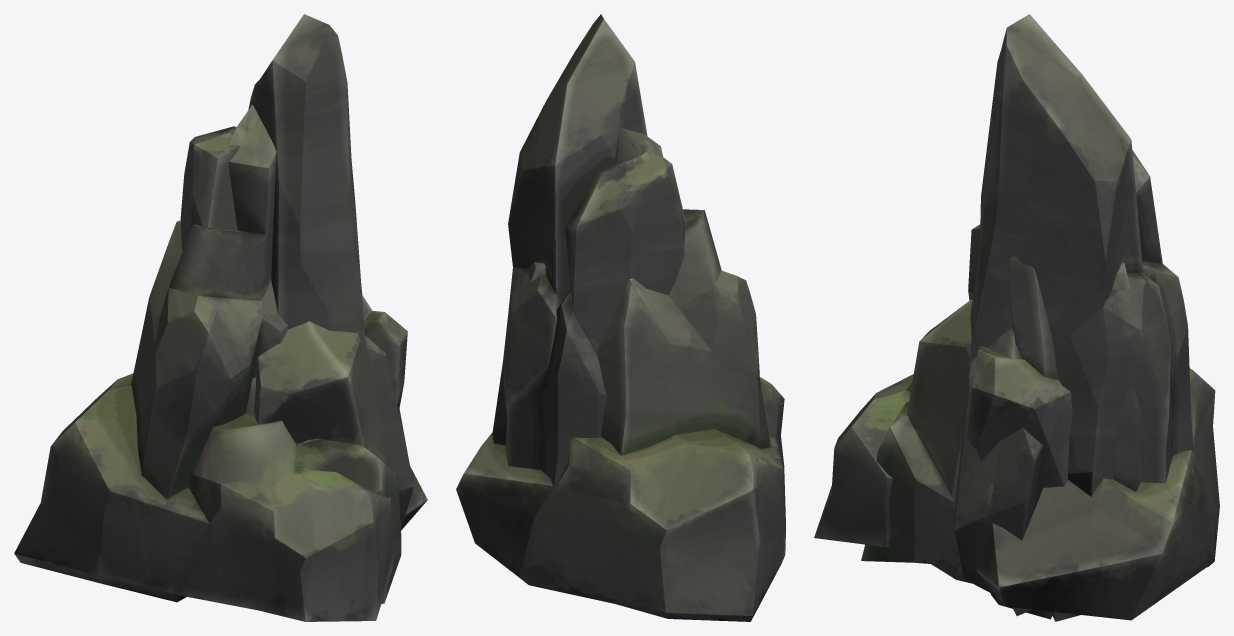
File: Rocks.glb
The picture shows the model from 3 angles, left to right: view 1: azimuth 30°, elevation 25°; view 2: azimuth 150°, elevation 25°; view 3: azimuth 270°, elevation 25°; orthographic projection. The views are drawn at different scales.
Parts seen in each view (by area): view 1: Rock_5, Rock_4, Rock_1, Rock_3; view 2: Rock_5, Rock_4; view 3: Rock_4, Rock_5, Rock_1, Rock_3.
Boxes of the visible parts, x1,y1,x2,y2 form: Rock_5: (14,104,427,621); Rock_4: (180,14,413,528); Rock_1: (254,321,401,603); Rock_3: (361,286,407,411); Rock_5: (456,128,785,621); Rock_4: (503,14,686,489); Rock_4: (953,14,1193,619); Rock_5: (814,224,1219,620); Rock_1: (861,299,1032,615); Rock_3: (931,255,1079,621).
Bounding box in the file's own units: 1.29 × 2.15 × 1.32.
1 material, 1 textured.
